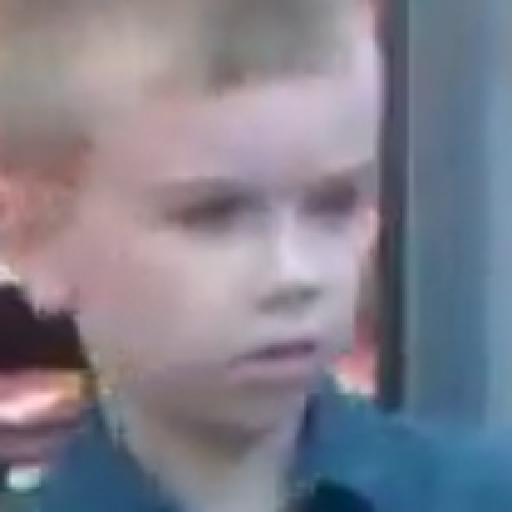Autism: (0, 0, 411, 459)
